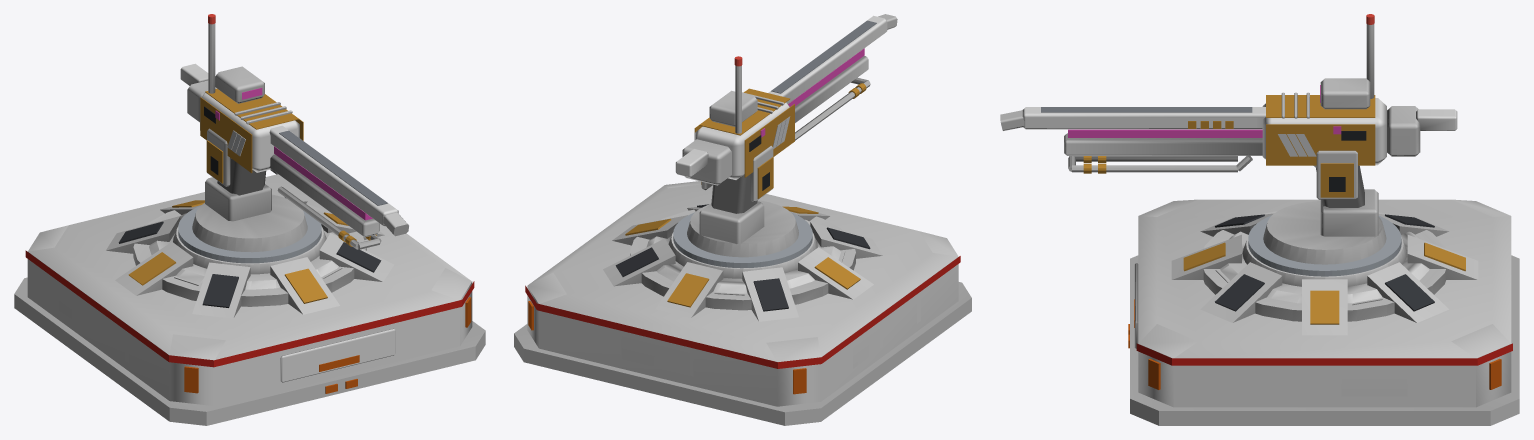
Rendered from sniper_1.glb.
3 views of the same model, side by side, from view 1: azimuth 30°, elevation 25°; view 2: azimuth 150°, elevation 25°; view 3: azimuth 270°, elevation 25° (orthographic). The views are drawn at different scales.
Parts seen in each view (by area): view 1: Rumpf, Railgun, Lagerbock, Ladung; view 2: Rumpf, Railgun, Lagerbock, Ladung; view 3: Rumpf, Railgun, Lagerbock, Ladung.
Boxes of the visible parts, x1,y1,x2,y2 form: Rumpf: (14, 174, 485, 425); Railgun: (180, 14, 408, 249); Lagerbock: (192, 128, 307, 252); Ladung: (215, 88, 372, 220); Rumpf: (514, 181, 971, 425); Railgun: (675, 14, 897, 185); Lagerbock: (687, 145, 798, 257); Ladung: (760, 48, 864, 137); Rumpf: (1128, 199, 1519, 425); Railgun: (1000, 14, 1457, 173); Lagerbock: (1263, 150, 1386, 264); Ladung: (1068, 85, 1341, 137).
Size of the model in its own units: 0.94 by 0.85 by 1.25.
